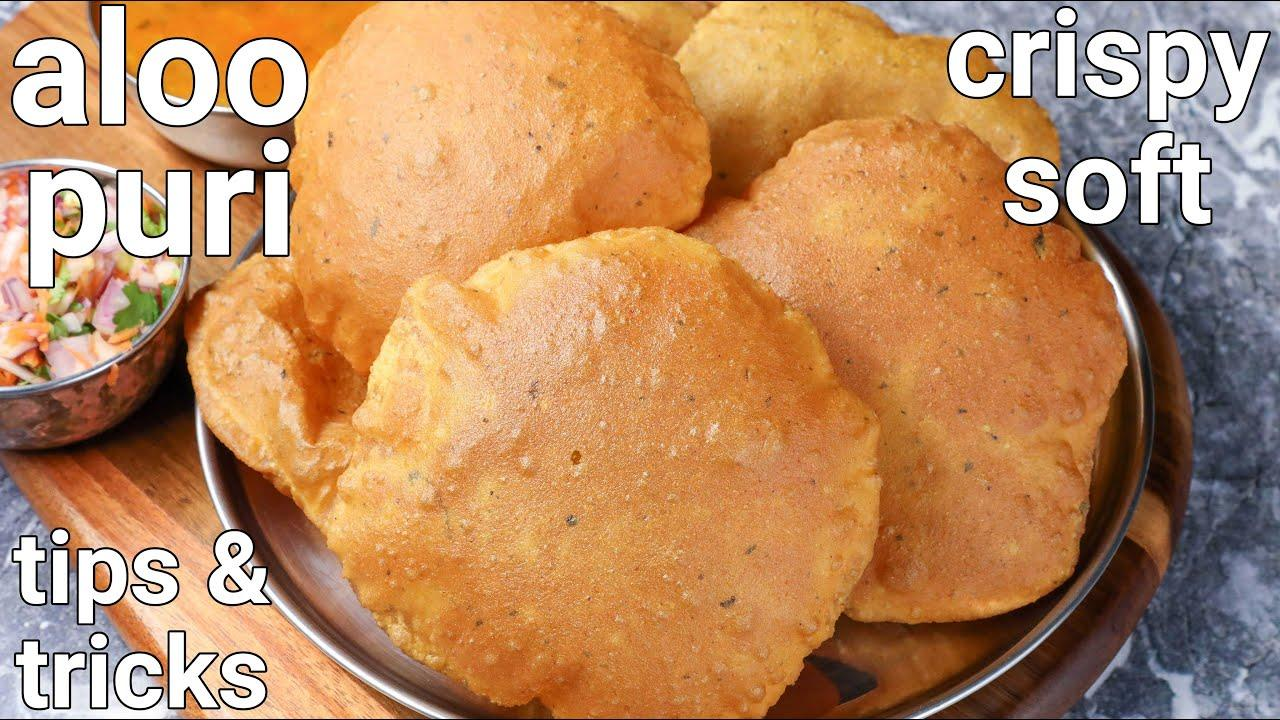puri: (302, 234, 1208, 720)
